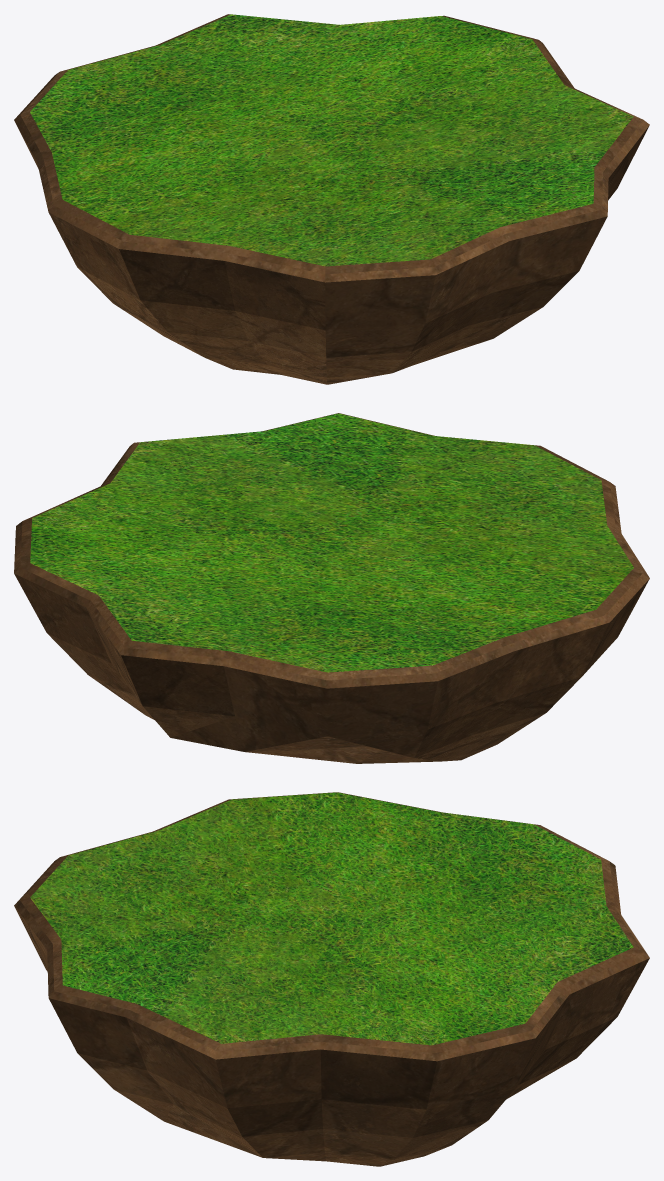
Rendered from platform3.fbx.
3 views of the same model, one above another, from view 1: azimuth 30°, elevation 25°; view 2: azimuth 150°, elevation 25°; view 3: azimuth 270°, elevation 25° (orthographic).
Parts seen in each view (by area): view 1: erba3, ground3; view 2: erba3, ground3; view 3: erba3, ground3.
Boxes of the visible parts, box(x1,y1,x2,y2) form: erba3: box(30, 14, 633, 266); ground3: box(14, 14, 649, 384); erba3: box(30, 413, 633, 672); ground3: box(14, 413, 649, 763); erba3: box(30, 792, 633, 1045); ground3: box(14, 792, 649, 1166).
Bounding box in the file's own units: 1709 × 588 × 1725.
Materials: 2 (2 with a texture image).
